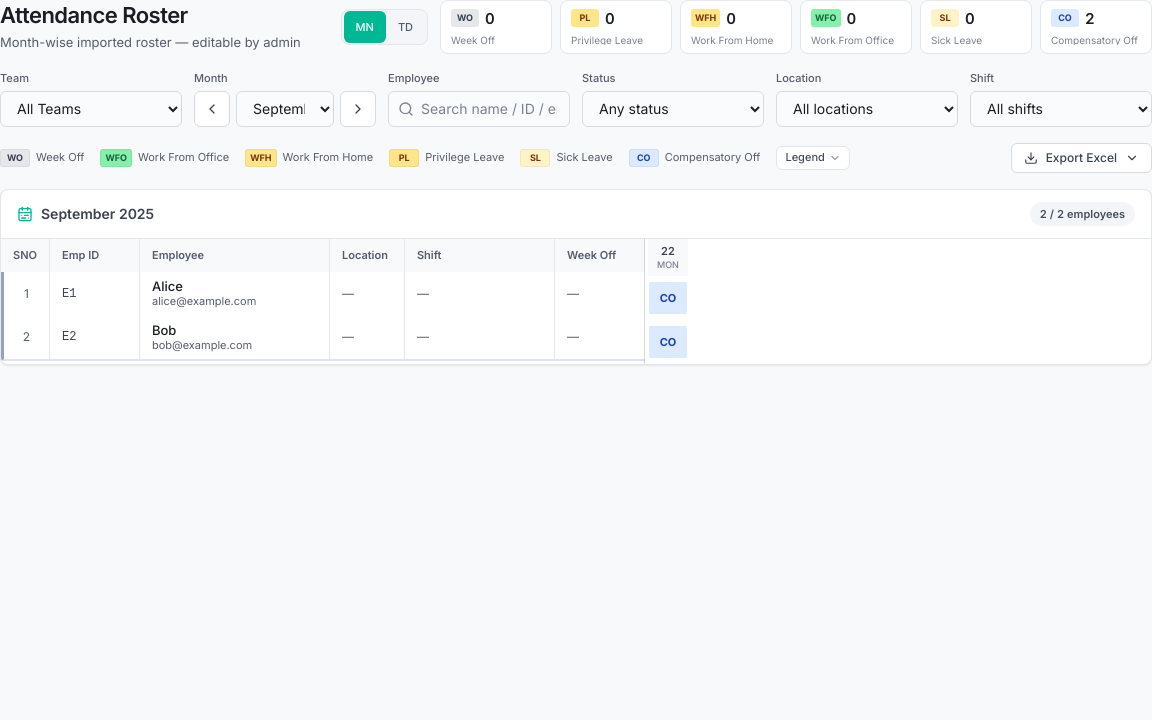
Test: AdminRosterPage CO status detail › shows status, HPE holiday and approver for an HPE-backed CO cell
Expected: the text "Alice" is shown, [152,278,183,294]
Click the 1st button "CO": (668, 298) [649,282,687,314]
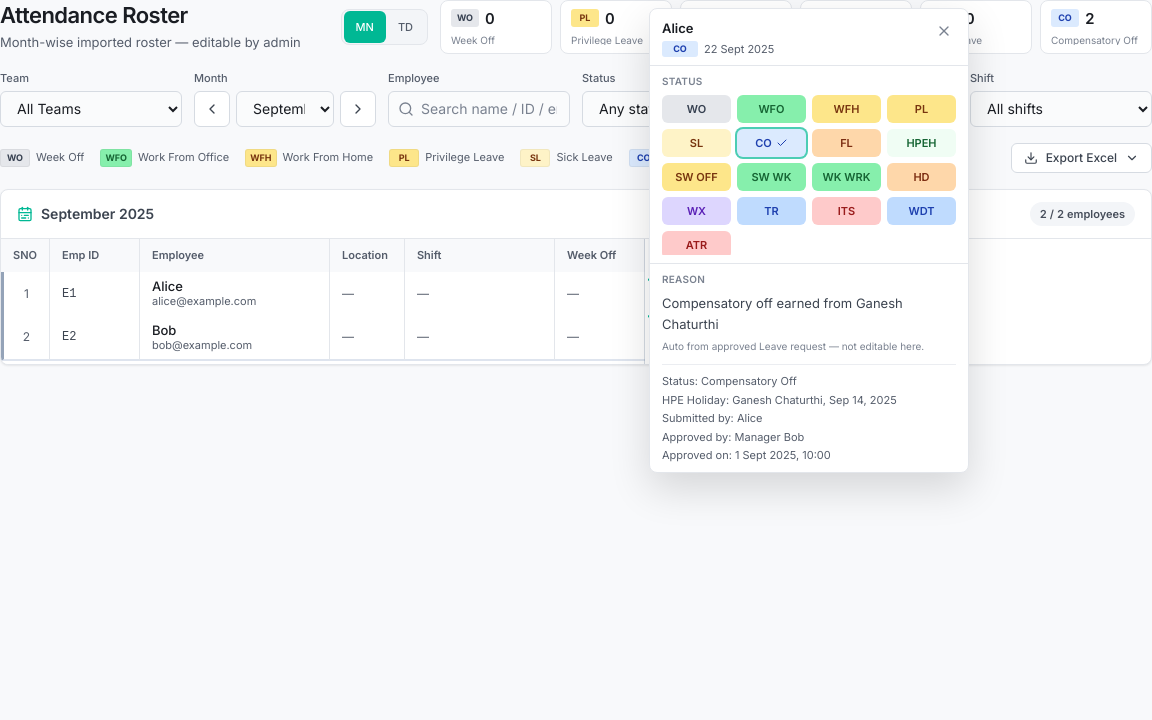
Expected: the text "HPE Holiday: Ganesh Chaturthi, Sep 14, 2025" is shown, [662,393,897,407]
Expected: the text "Status: Compensatory Off" is shown, [662,374,797,388]
Expected: the text "Approved by: Manager Bob" is shown, [662,430,804,444]
